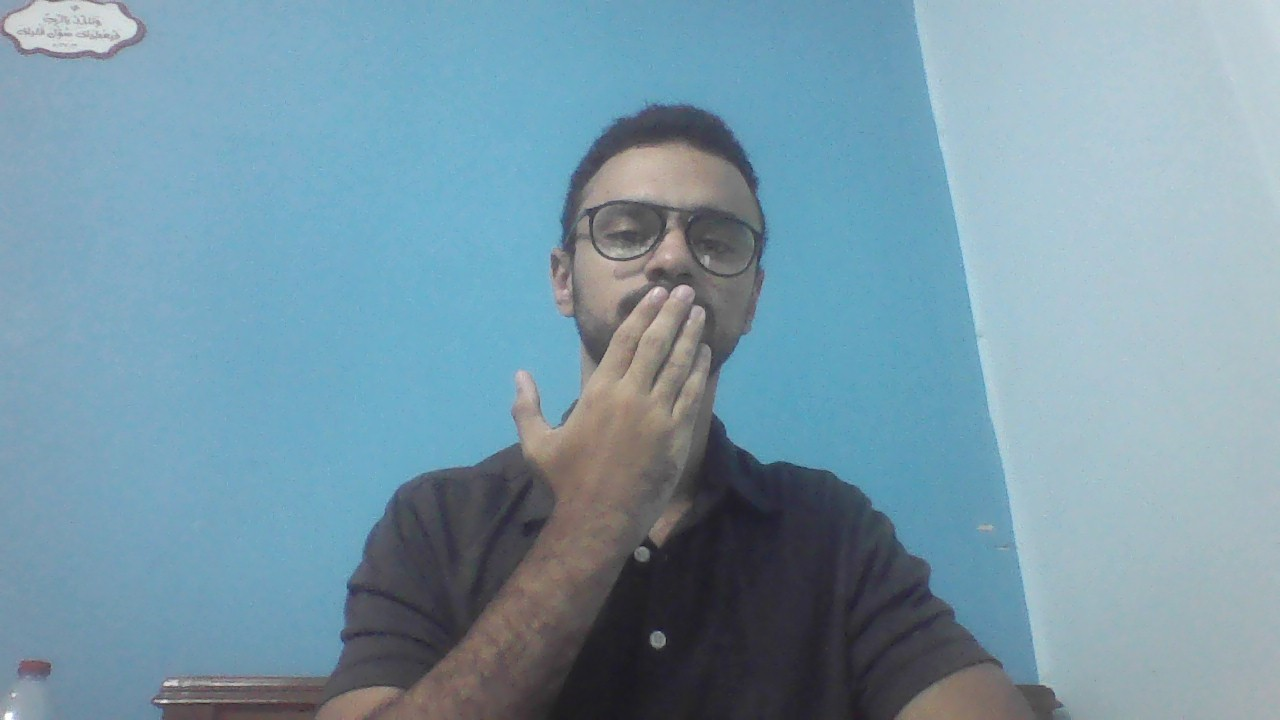thankyou: (495, 285, 715, 530)
